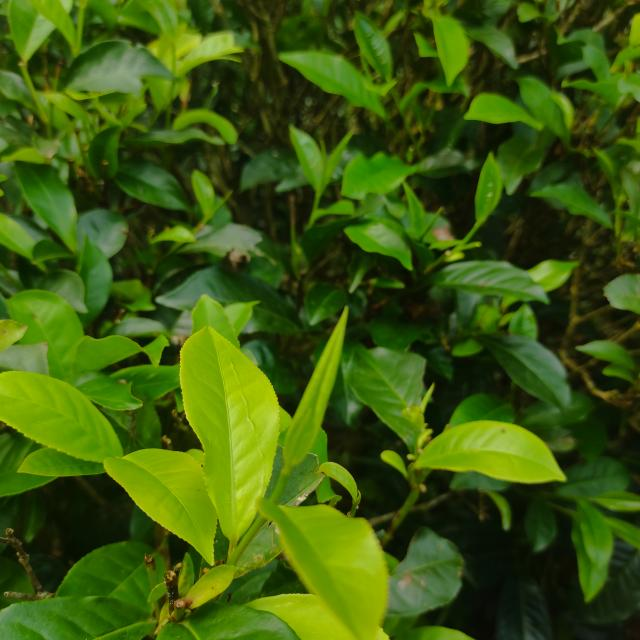unopened_leaf: (272, 291, 356, 488), (315, 120, 366, 191), (200, 186, 238, 230), (417, 206, 448, 250), (316, 132, 330, 178)
